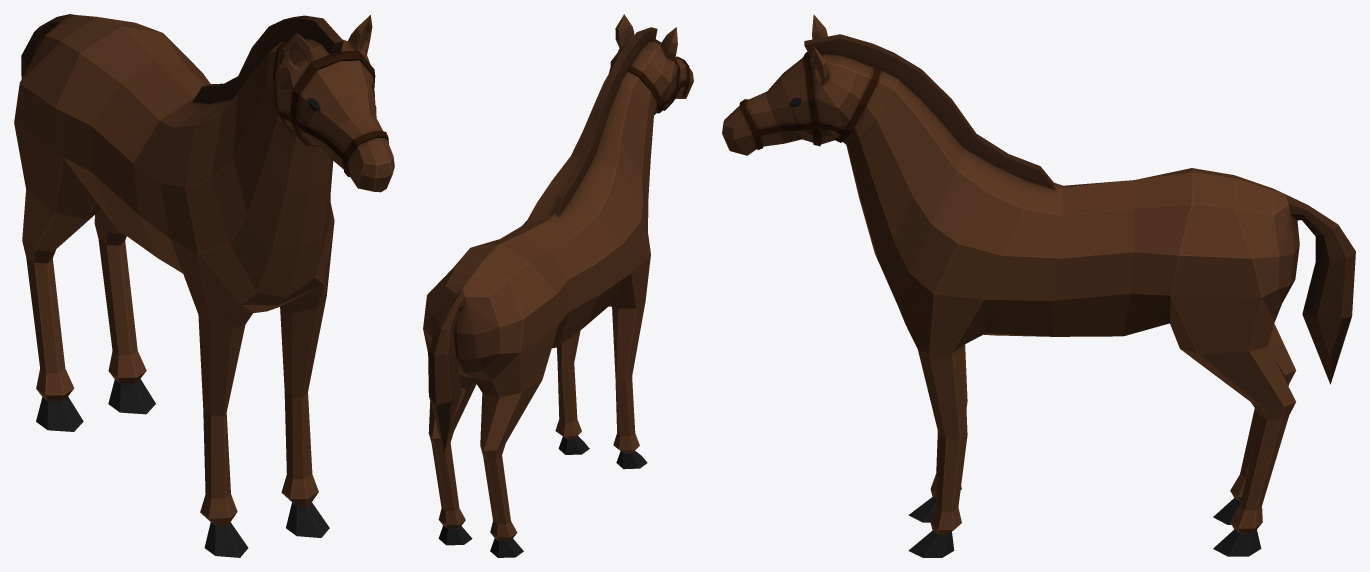
File: Horse.obj
The picture shows the model from 3 angles, left to right: view 1: azimuth 30°, elevation 25°; view 2: azimuth 150°, elevation 25°; view 3: azimuth 270°, elevation 25°; orthographic projection. The views are drawn at different scales.
Visible parts, largest first — view 1: Horse_Mesh; view 2: Horse_Mesh; view 3: Horse_Mesh.
Boxes of the visible parts, x1=… form: Horse_Mesh: x1=14, y1=14, x2=394, y2=557; Horse_Mesh: x1=423, y1=14, x2=693, y2=557; Horse_Mesh: x1=722, y1=14, x2=1355, y2=557.
Size of the model in its own units: 3.49 by 12.82 by 14.65.
1 material, 1 textured.
